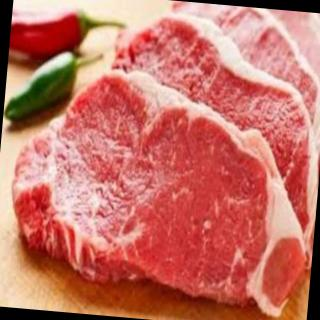Daging Sapi: (6, 1, 320, 318), (1, 63, 320, 320), (102, 13, 320, 242)
